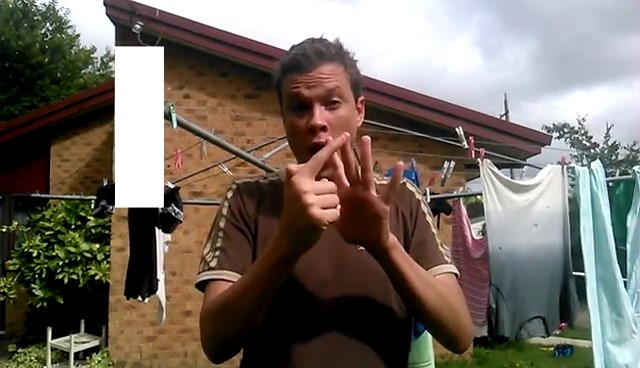I: (271, 128, 407, 261)
